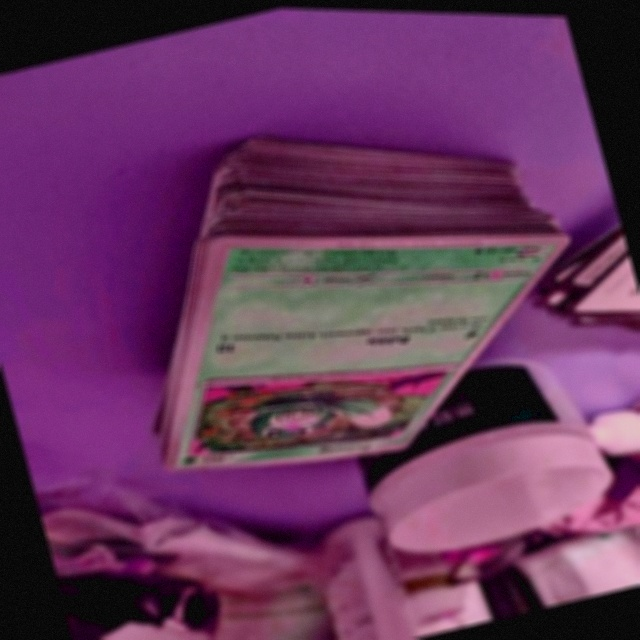card: (164, 229, 571, 472)
